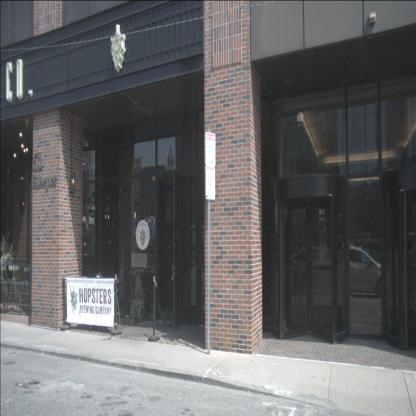vehicle-car: (331, 246, 390, 298), (283, 246, 336, 294)
